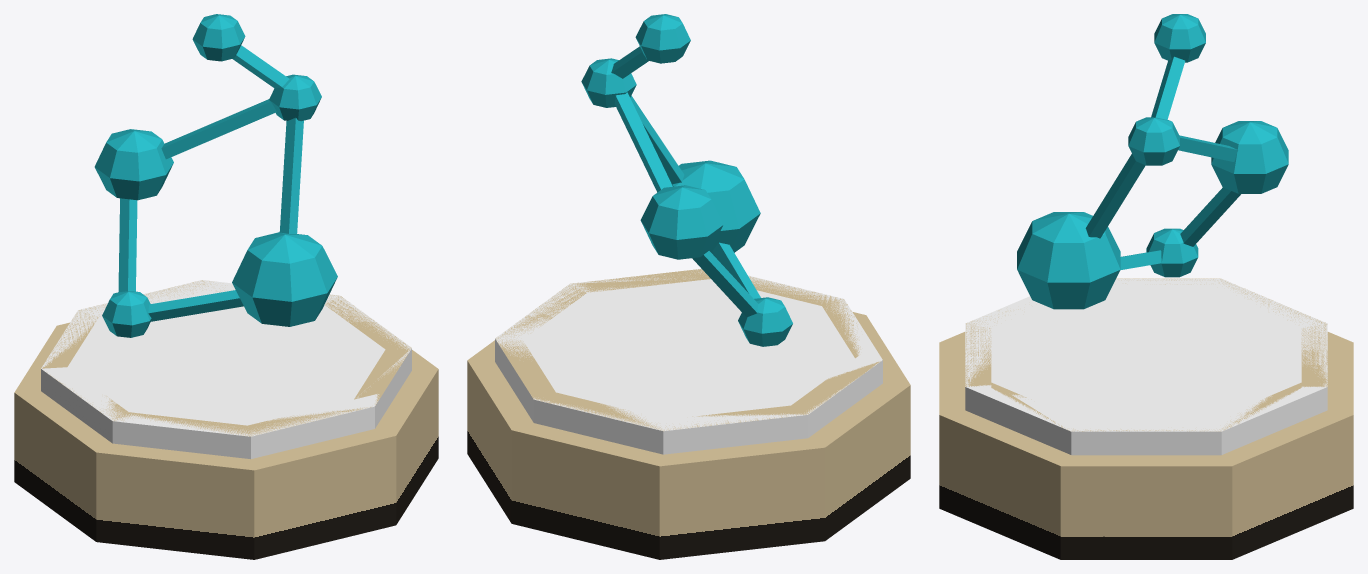
Rendered from glass_bead_game.gltf.
3 renders of one model, left to right at view 1: azimuth 30°, elevation 25°; view 2: azimuth 150°, elevation 25°; view 3: azimuth 270°, elevation 25°, orthographic. The views are drawn at different scales.
Visible parts, largest first — view 1: cylinder (×2), bead_4, mesh, bead_1, bead_3 (×2), connector_4, connector_3, bead_2, connector_5, connector_1, connector_2; view 2: cylinder (×2), mesh, bead_1, bead_4, bead_3 (×2), bead_2, connector_3, connector_5, connector_4, connector_1, connector_2; view 3: cylinder (×2), bead_4, bead_1, mesh, bead_3 (×2), bead_2, connector_4, connector_5, connector_2, connector_3, connector_1.
Part boxes in pixels (bbox=[...]): cylinder (×2): bbox=[14, 280, 438, 559]; bead_4: bbox=[232, 232, 337, 326]; mesh: bbox=[42, 280, 411, 436]; bead_1: bbox=[94, 129, 173, 200]; bead_3 (×2): bbox=[192, 14, 321, 121]; connector_4: bbox=[279, 117, 303, 233]; connector_3: bbox=[161, 99, 276, 159]; bead_2: bbox=[102, 291, 151, 337]; connector_5: bbox=[118, 198, 137, 292]; connector_1: bbox=[148, 290, 243, 321]; connector_2: bbox=[232, 45, 289, 88]; cylinder (×2): bbox=[467, 269, 910, 559]; mesh: bbox=[495, 269, 882, 431]; bead_1: bbox=[640, 185, 723, 259]; bead_4: bbox=[672, 160, 760, 257]; bead_3 (×2): bbox=[581, 14, 690, 107]; bead_2: bbox=[738, 297, 792, 346]; connector_3: bbox=[614, 92, 672, 192]; connector_5: bbox=[692, 251, 758, 317]; connector_4: bbox=[630, 95, 684, 184]; connector_1: bbox=[712, 242, 760, 298]; connector_2: bbox=[611, 46, 648, 78]; cylinder (×2): bbox=[939, 278, 1353, 559]; bead_4: bbox=[1017, 212, 1120, 309]; bead_1: bbox=[1211, 121, 1288, 193]; mesh: bbox=[965, 278, 1327, 431]; bead_3 (×2): bbox=[1128, 14, 1205, 165]; bead_2: bbox=[1146, 228, 1198, 277]; connector_4: bbox=[1085, 154, 1145, 238]; connector_5: bbox=[1180, 187, 1240, 246]; connector_2: bbox=[1151, 56, 1185, 119]; connector_3: bbox=[1178, 135, 1237, 161]; connector_1: bbox=[1120, 250, 1161, 270].
Size of the model in its own units: 1 by 1.23 by 1.
Materials: 6 (5 with a texture image).
